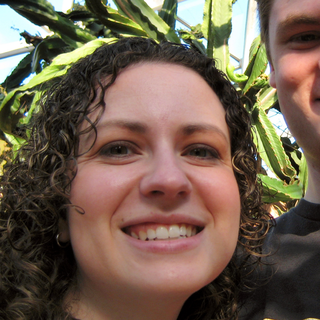eye: (95, 139, 145, 163), (176, 140, 221, 163)
